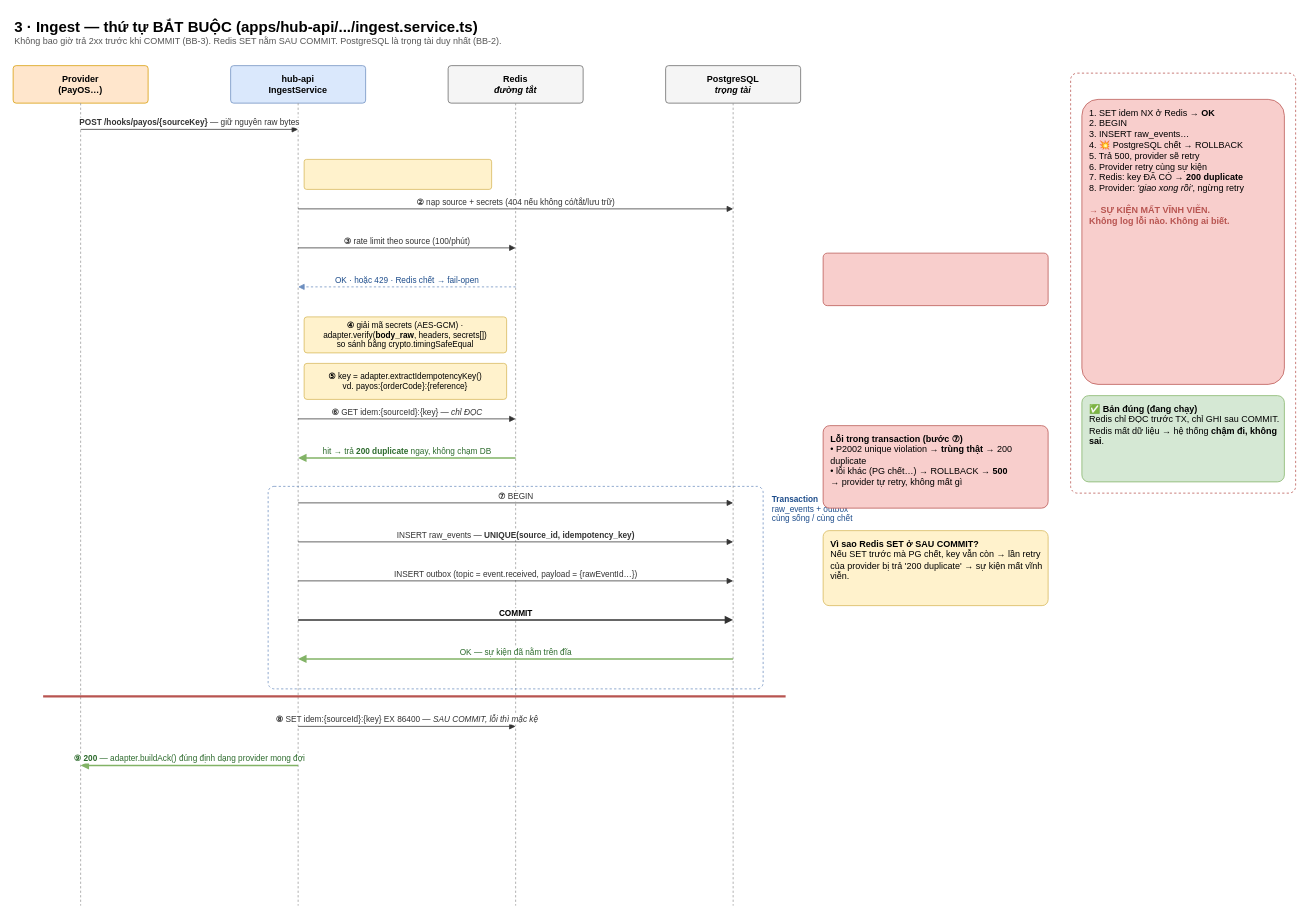
This 1309x920 diagram has some shape labels left out. Each missing label, with the box of its shape:
Sai chữ ký (bước ④) INSERT raw_events(status=REJECTED) để điều tra → 401 , dừng: (822, 252, 1048, 306)
① body > 1MB → 413 , dừng: (303, 159, 492, 189)
━━ BB-3: chỉ từ dòng này trở xuống mới được trả 2xx ━━: (267, 486, 763, 689)
❌ Bản ý tưởng gốc — SAI: (1070, 72, 1296, 493)
